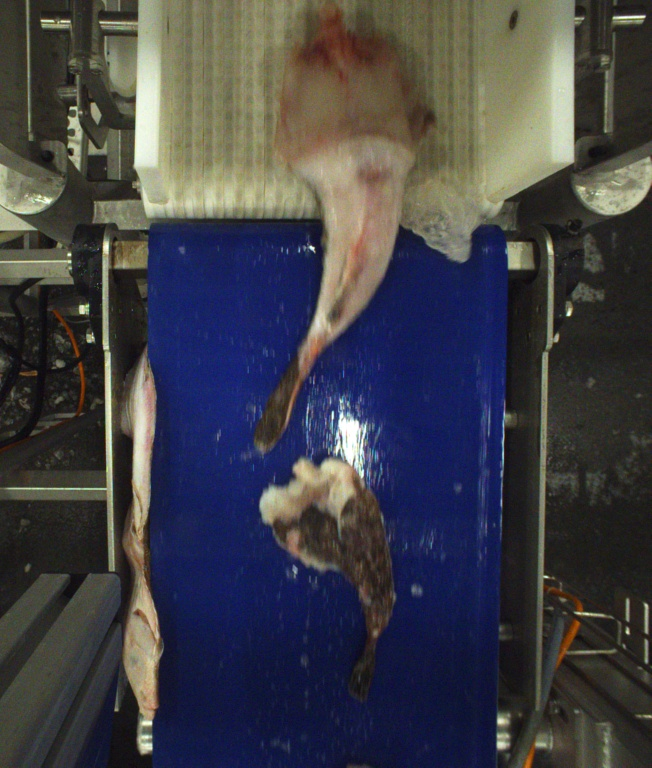ANF: (264, 455, 392, 707)
